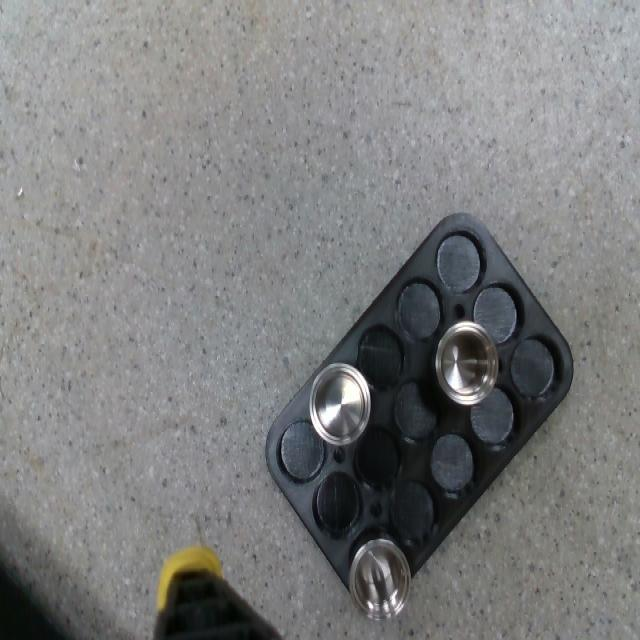sensor: (309, 362, 371, 447), (435, 322, 498, 405), (349, 538, 410, 619)
